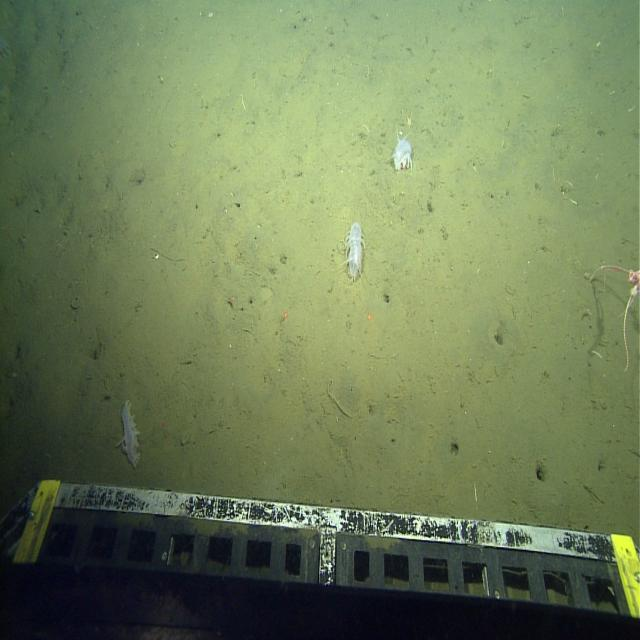Brittle Star: (583, 226, 640, 374)
Not Brittle Star: (115, 395, 144, 471), (342, 218, 367, 284), (389, 126, 416, 176), (0, 22, 12, 72)
